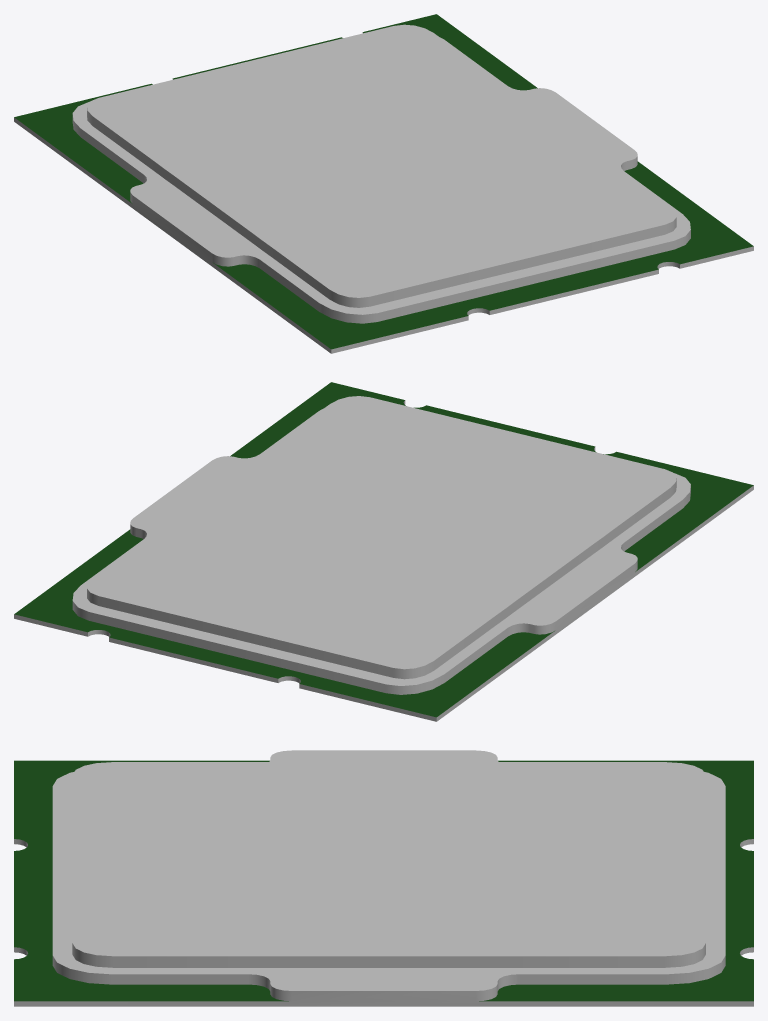
The model's file is CPU I5-12400F LGA 1700.fbx.
3 views of the same model, one above another, from view 1: azimuth 30°, elevation 25°; view 2: azimuth 150°, elevation 25°; view 3: azimuth 270°, elevation 25° (orthographic). The views are drawn at different scales.
Visible parts, largest first — view 1: Cube; view 2: Cube; view 3: Cube.
Boxes of the visible parts, bbox=[...] form: Cube: bbox=[14, 14, 753, 353]; Cube: bbox=[14, 382, 753, 721]; Cube: bbox=[14, 750, 753, 1006].
Size of the model in its own units: 10 by 0.525 by 13.
